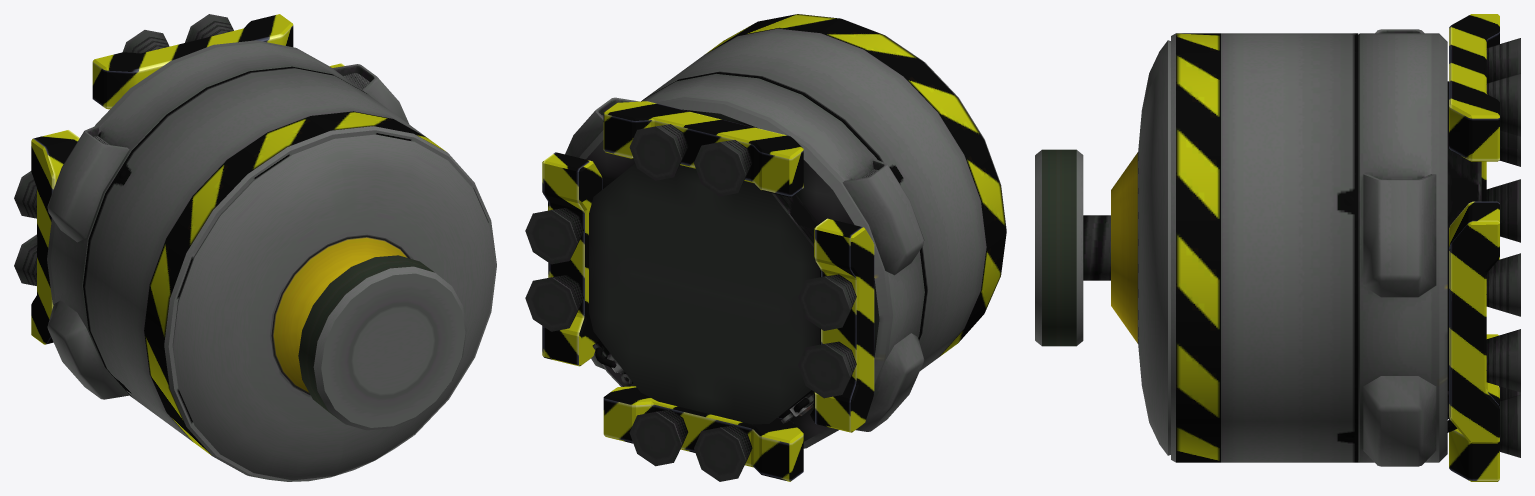
The picture shows the model from 3 angles, left to right: view 1: azimuth 30°, elevation 25°; view 2: azimuth 150°, elevation 25°; view 3: azimuth 270°, elevation 25°; orthographic projection. The views are drawn at different scales.
Parts seen in each view (by area): view 1: node_2a9f2d91_5f15_4738_bf36_1f39e58ca483_mesh0, node_2a9f2d91_5f15_4738_bf36_1f39e58ca483_mesh2, node_2a9f2d91_5f15_4738_bf36_1f39e58ca483_mesh1, node_2a9f2d91_5f15_4738_bf36_1f39e58ca483_mesh3; view 2: node_2a9f2d91_5f15_4738_bf36_1f39e58ca483_mesh0, node_2a9f2d91_5f15_4738_bf36_1f39e58ca483_mesh1, node_2a9f2d91_5f15_4738_bf36_1f39e58ca483_mesh2; view 3: node_2a9f2d91_5f15_4738_bf36_1f39e58ca483_mesh0, node_2a9f2d91_5f15_4738_bf36_1f39e58ca483_mesh2, node_2a9f2d91_5f15_4738_bf36_1f39e58ca483_mesh1, node_2a9f2d91_5f15_4738_bf36_1f39e58ca483_mesh3.
Boxes of the visible parts, x1,y1,x2,y2 form: node_2a9f2d91_5f15_4738_bf36_1f39e58ca483_mesh0: (14, 14, 496, 481); node_2a9f2d91_5f15_4738_bf36_1f39e58ca483_mesh2: (144, 111, 446, 455); node_2a9f2d91_5f15_4738_bf36_1f39e58ca483_mesh1: (31, 14, 344, 344); node_2a9f2d91_5f15_4738_bf36_1f39e58ca483_mesh3: (119, 170, 434, 422); node_2a9f2d91_5f15_4738_bf36_1f39e58ca483_mesh0: (525, 19, 1006, 481); node_2a9f2d91_5f15_4738_bf36_1f39e58ca483_mesh1: (542, 101, 874, 481); node_2a9f2d91_5f15_4738_bf36_1f39e58ca483_mesh2: (704, 14, 1006, 356); node_2a9f2d91_5f15_4738_bf36_1f39e58ca483_mesh0: (1035, 29, 1520, 466); node_2a9f2d91_5f15_4738_bf36_1f39e58ca483_mesh2: (1176, 33, 1220, 462); node_2a9f2d91_5f15_4738_bf36_1f39e58ca483_mesh1: (1449, 14, 1499, 481); node_2a9f2d91_5f15_4738_bf36_1f39e58ca483_mesh3: (1042, 149, 1354, 439).
Size of the model in its own units: 94.69 by 90.22 by 102.
5 materials, 5 textured.
